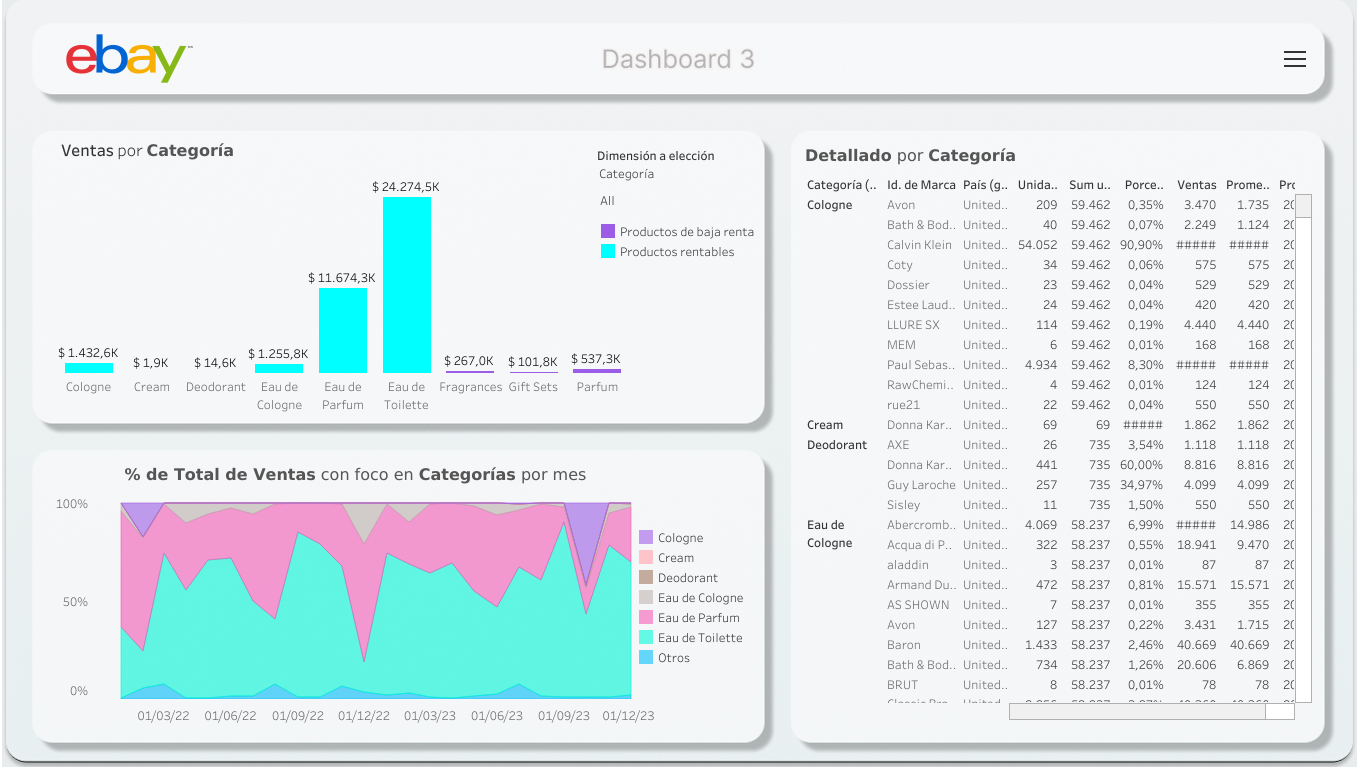

What the dashboard file says about the page in this screenshot:
{"tool":"tableau","page":{"name":"Dashboard 3","canvas":[1366,768],"ordinal":2},"visuals":[{"type":"dashboard-object","box":[1174,25,105,24]},{"type":"image","param":"Image/logo ebay.png","box":[60,28,193,61]},{"type":"dashboard-object","box":[1283,47,24,24]},{"type":"dashboard-object","box":[1174,49,105,24]},{"type":"dashboard-object","box":[1174,73,105,24]},{"type":"worksheet","title":"Ventas por dimensión a elección","mark":"Automatic","rows":["Ventas"],"cols":["Calculation_637259387163111426"],"box":[57,132,572,281]},{"type":"worksheet","title":"Detallado por Categoría","mark":"Automatic","rows":["Id. de Marca"],"box":[801,140,511,580]},{"type":"parameter","param":"[Parameters].[Parámetro 3]","box":[597,145,160,44]},{"type":"filter","title":"Ventas por dimensión a elección","param":"[federated.0iuf23o0ctprsw16fzcdq18ruu9r].[none:Calculation_637259387163111426:nk","box":[598,191,160,44]},{"type":"legend","title":"Ventas por dimensión a elección","param":"[federated.0iuf23o0ctprsw16fzcdq18ruu9r].[usr:Calculation_1055569517682746:nk]","box":[598,221,209,76]},{"type":"worksheet","title":"ÁREA - Ventas/mes","mark":"Area","cols":["Fecha"],"box":[55,459,601,270]}]}

Visuals, with their boxes in screenshot pixels (x1, y1, x2, y2), scaled from the page's 1366x768 canvas onto the 1365x767 screenshot:
dashboard-object: bbox(1173, 25, 1278, 49)
image: bbox(60, 28, 253, 89)
dashboard-object: bbox(1282, 47, 1306, 71)
dashboard-object: bbox(1173, 49, 1278, 73)
dashboard-object: bbox(1173, 73, 1278, 97)
"Ventas por dimensión a elección" worksheet: bbox(57, 132, 629, 412)
"Detallado por Categoría" worksheet: bbox(800, 140, 1311, 719)
parameter: bbox(597, 145, 756, 189)
"Ventas por dimensión a elección" filter: bbox(598, 191, 757, 235)
"Ventas por dimensión a elección" legend: bbox(598, 221, 806, 297)
"ÁREA - Ventas/mes" worksheet (Area marks): bbox(55, 458, 656, 728)
